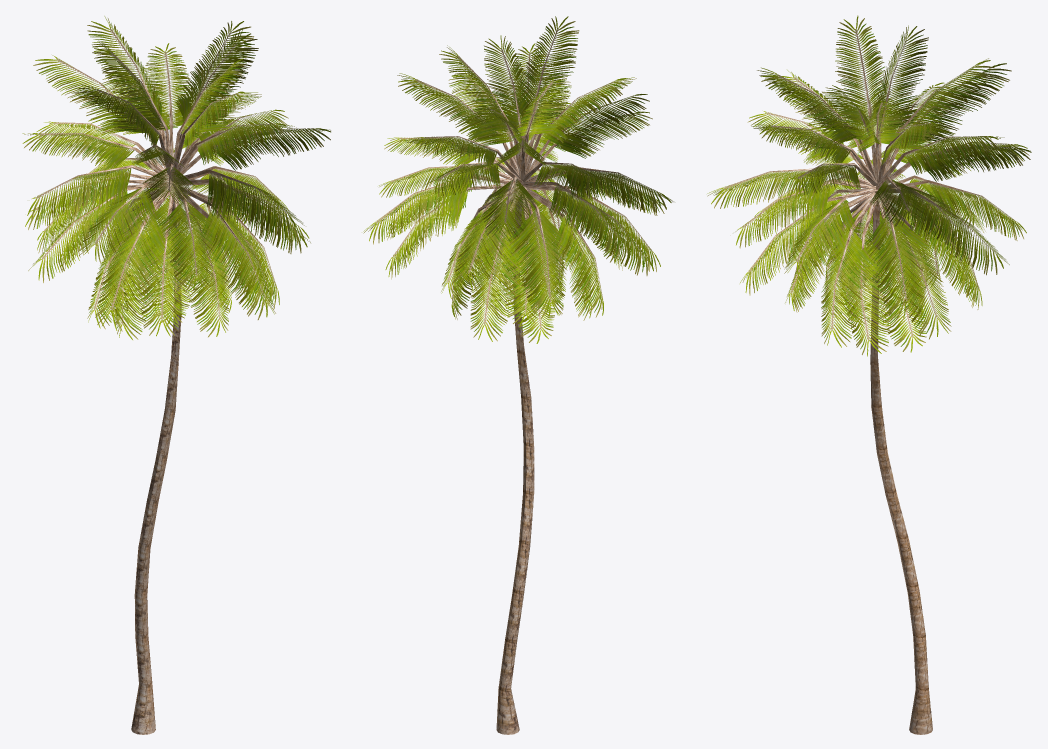
The model's file is asset.gltf.
3 views of the same model, side by side, from view 1: azimuth 30°, elevation 25°; view 2: azimuth 150°, elevation 25°; view 3: azimuth 270°, elevation 25° (orthographic). The views are drawn at different scales.
Visible parts, largest first — view 1: Tree_1, Tree_0; view 2: Tree_1, Tree_0; view 3: Tree_1, Tree_0.
Boxes of the visible parts, x1=… form: Tree_1: x1=22, y1=16, x2=330, y2=339; Tree_0: x1=77, y1=70, x2=261, y2=734; Tree_1: x1=363, y1=16, x2=673, y2=343; Tree_0: x1=416, y1=71, x2=620, y2=734; Tree_1: x1=707, y1=15, x2=1031, y2=356; Tree_0: x1=773, y1=72, x2=978, y2=734.
Bounding box in the file's own units: 66.62 × 156 × 67.58.
Materials: 2 (2 with a texture image).
